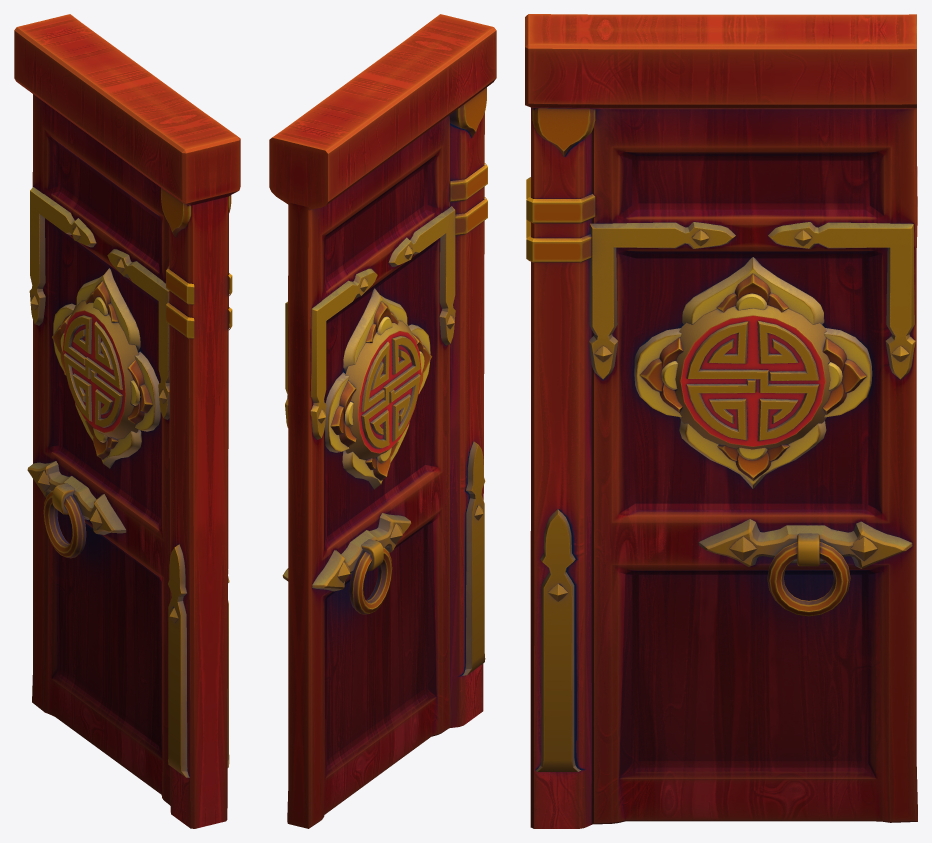
Rendered from SM_Door1.glb.
The picture shows the model from 3 angles, left to right: view 1: azimuth 30°, elevation 25°; view 2: azimuth 150°, elevation 25°; view 3: azimuth 270°, elevation 25°; orthographic projection. The views are drawn at different scales.
Visible parts, largest first — view 1: SM_Door1_LOD0; view 2: SM_Door1_LOD0; view 3: SM_Door1_LOD0.
Part boxes in pixels (left/top/right/bottom): SM_Door1_LOD0: left=14, top=14, right=240, bottom=828; SM_Door1_LOD0: left=269, top=14, right=496, bottom=828; SM_Door1_LOD0: left=525, top=14, right=917, bottom=828.
Bounding box in the file's own units: 0.1761 × 1.71 × 0.7702.
Materials: 1 (1 with a texture image).
